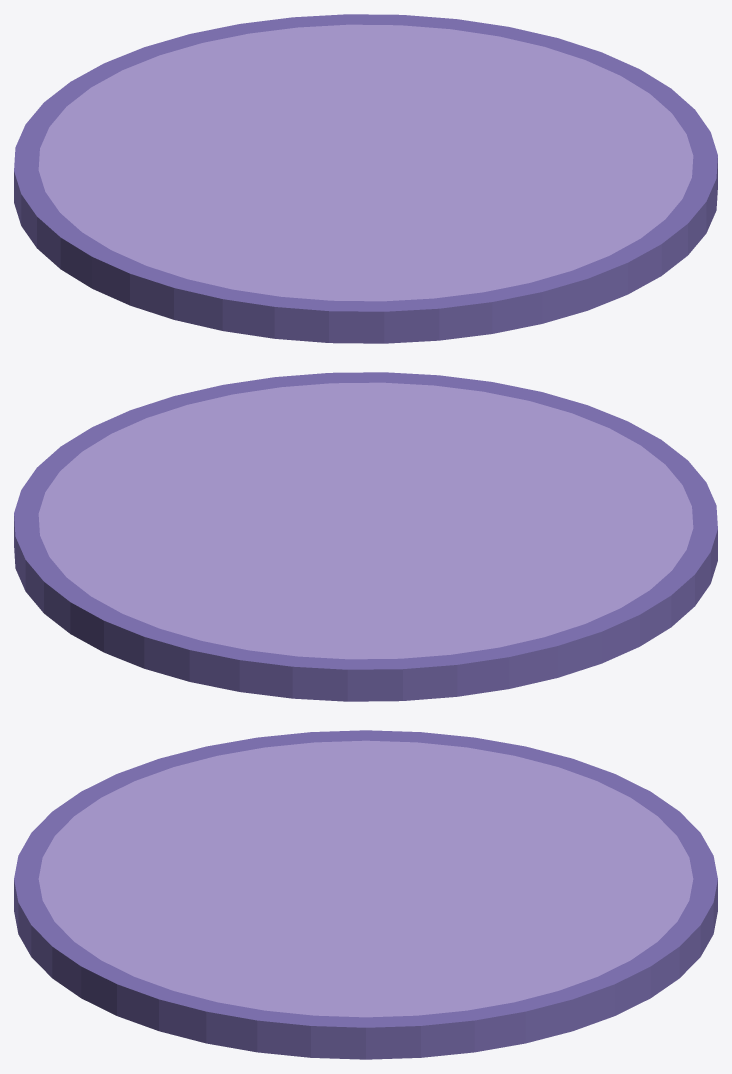
Rendered from chao-nuvens.glb.
3 views of the same model, one above another, from view 1: azimuth 30°, elevation 25°; view 2: azimuth 150°, elevation 25°; view 3: azimuth 270°, elevation 25° (orthographic).
Parts seen in each view (by area): view 1: chao-nuvens; view 2: chao-nuvens; view 3: chao-nuvens.
Part boxes in pixels (left/top/right/bottom): chao-nuvens: left=14, top=14, right=717, bottom=343; chao-nuvens: left=14, top=372, right=717, bottom=701; chao-nuvens: left=14, top=730, right=717, bottom=1059.
Size of the model in its own units: 2 by 0.1 by 2.
